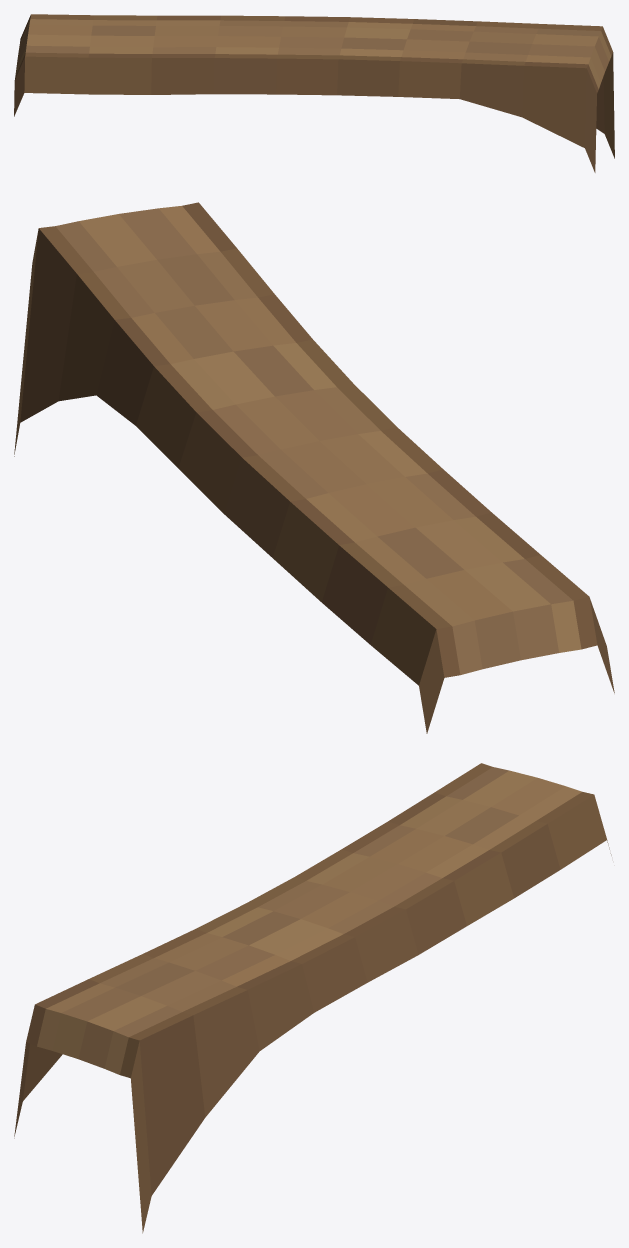
The model's file is road_pond_path.glb.
The picture shows the model from 3 angles, top to bottom: view 1: azimuth 30°, elevation 25°; view 2: azimuth 150°, elevation 25°; view 3: azimuth 270°, elevation 25°; orthographic projection. The views are drawn at different scales.
Parts seen in each view (by area): view 1: road_pond_path; view 2: road_pond_path; view 3: road_pond_path.
Boxes of the visible parts, x1,y1,x2,y2 form: road_pond_path: [14, 14, 614, 172]; road_pond_path: [14, 202, 614, 733]; road_pond_path: [14, 763, 611, 1233].
Bounding box in the file's own units: 26.29 × 7.27 × 21.34.
1 material, 1 textured.
